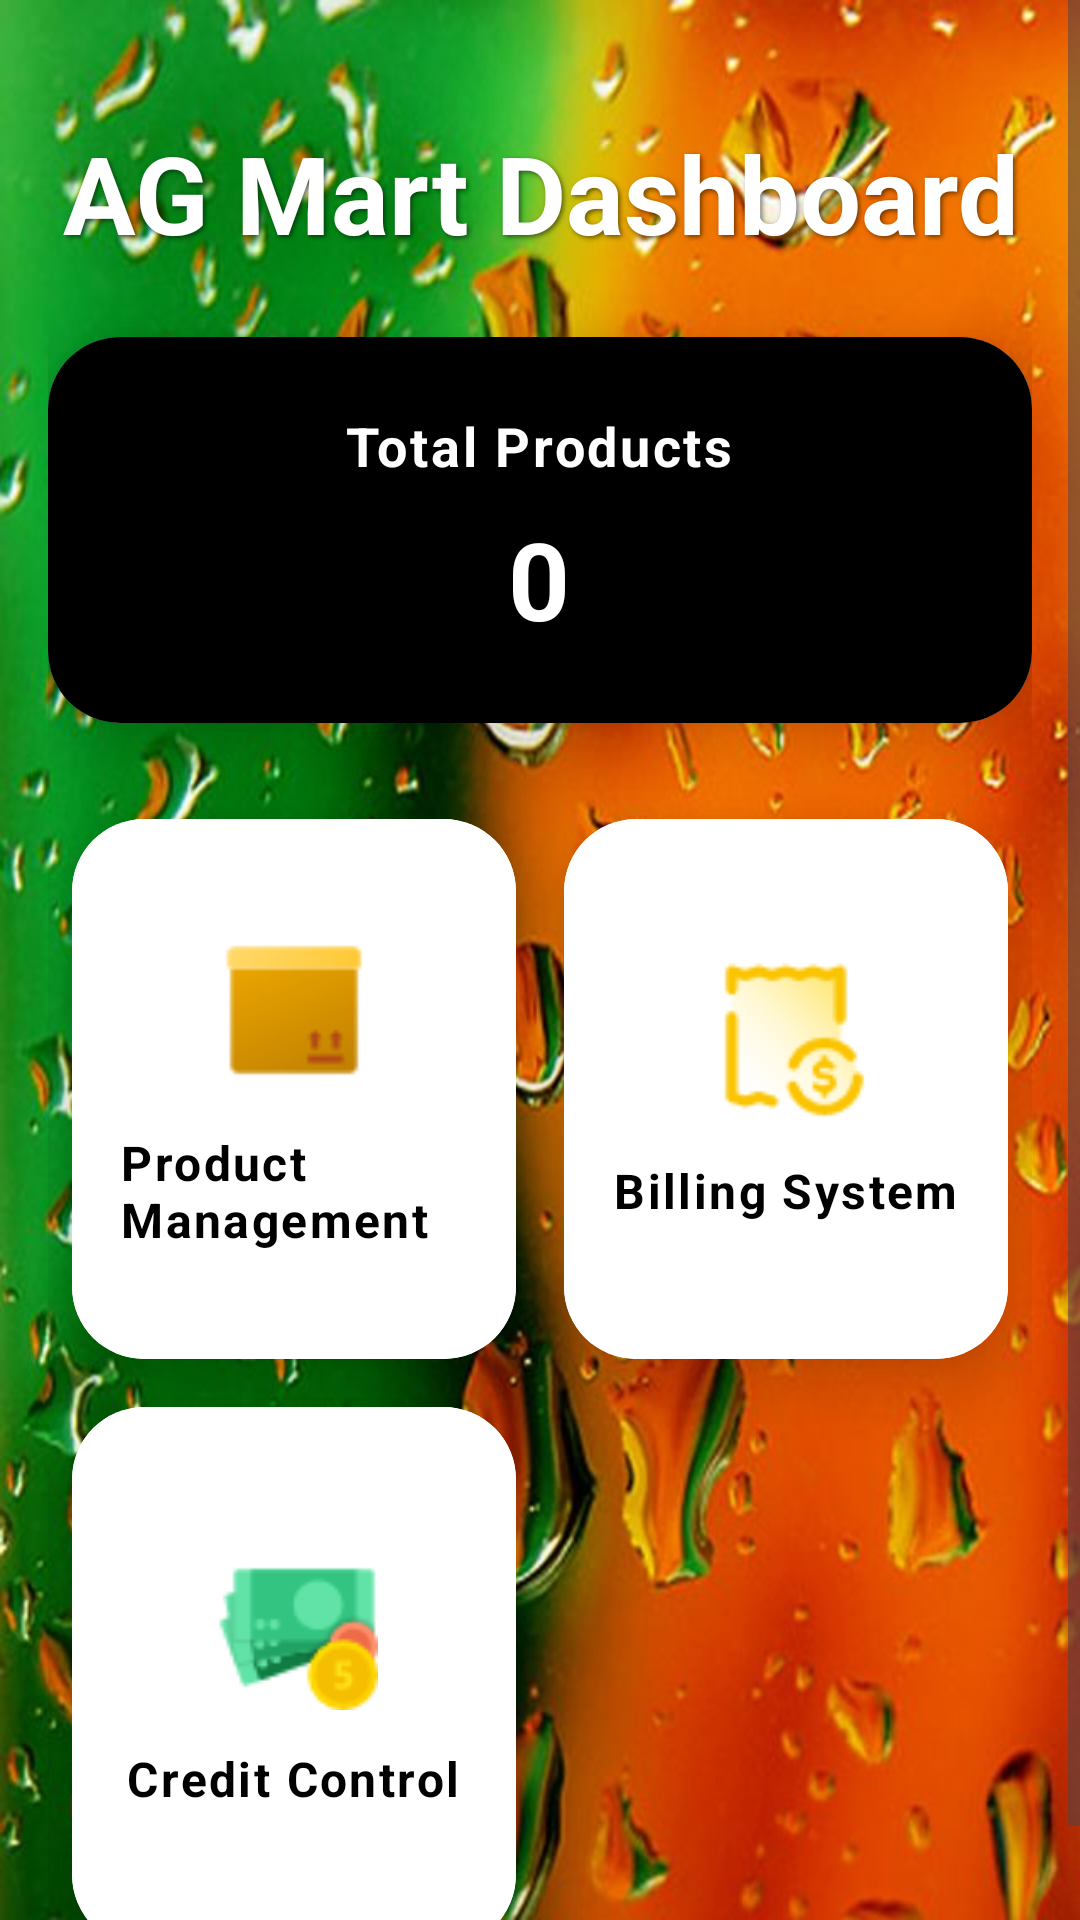

Icons on this 1080px×1920px Android screen, each with the point to tap as (x,y):
cash: (298,1639)
products: (294,1010)
